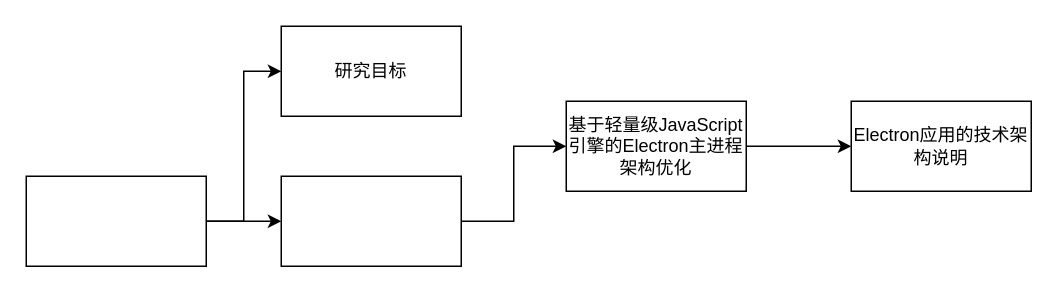
This 1058x293 diagram has some shape labels left out. The centre of each missing label's shape, as x and y in pixels:
研究方案: the point at 370,220
第五章：基于轻量级浏览器内核的通用Web应用页面加载加速: the point at 115,220
